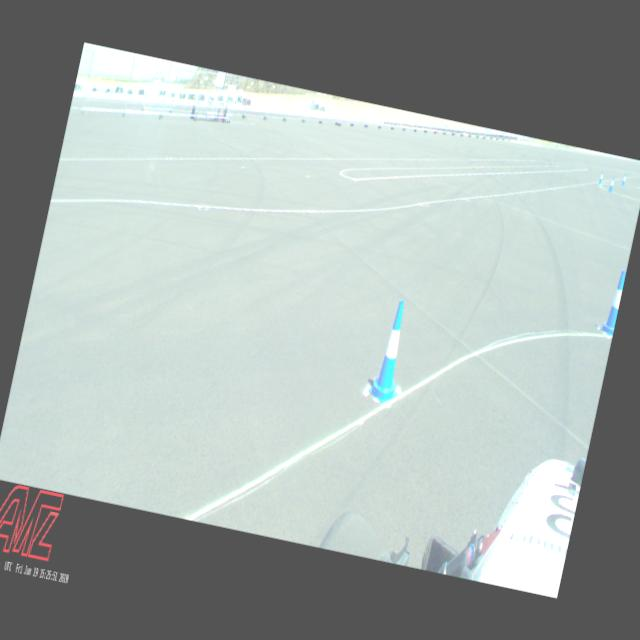blue_cone: (366, 296, 416, 406), (598, 266, 626, 336), (608, 175, 616, 192), (620, 172, 626, 186), (598, 170, 604, 184)
